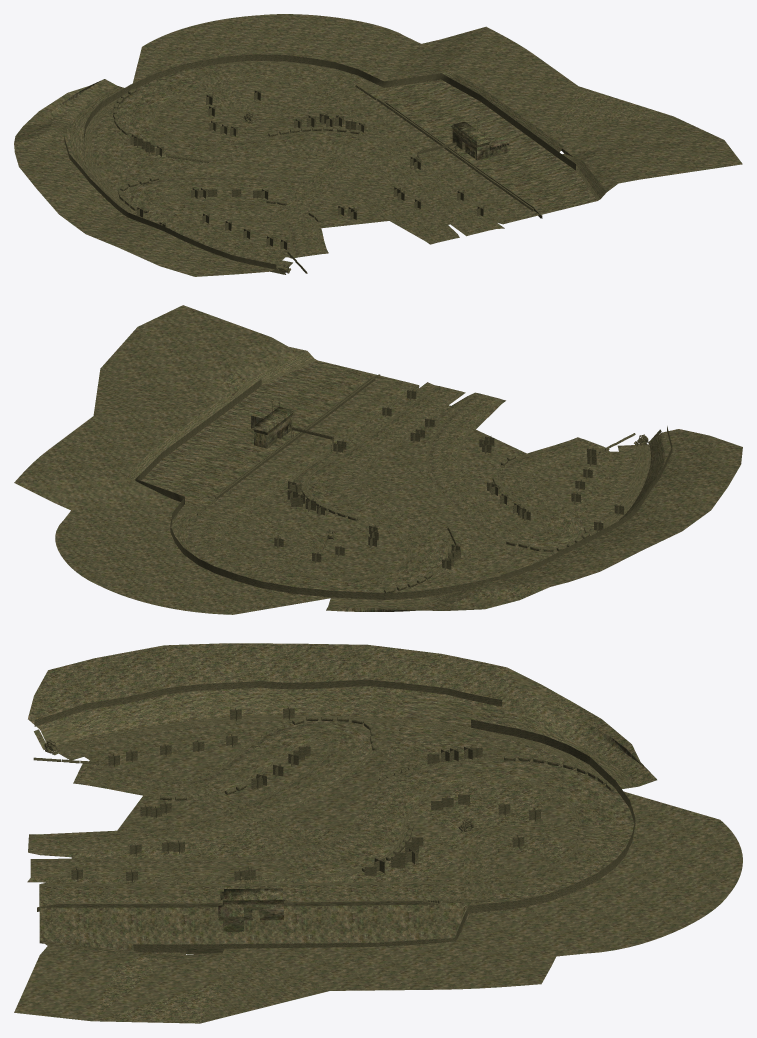
Rendered from bihoku1.glb.
3 views of the same model, one above another, from view 1: azimuth 30°, elevation 25°; view 2: azimuth 150°, elevation 25°; view 3: azimuth 270°, elevation 25° (orthographic). The views are drawn at different scales.
Visible parts, largest first — view 1: bihoku1; view 2: bihoku1; view 3: bihoku1.
Boxes of the visible parts, x1,y1,x2,y2 form: bihoku1: [14, 14, 742, 276]; bihoku1: [14, 305, 742, 614]; bihoku1: [14, 643, 742, 1023].
Bounding box in the file's own units: 258 × 15.16 × 218.
Materials: 1 (1 with a texture image).
